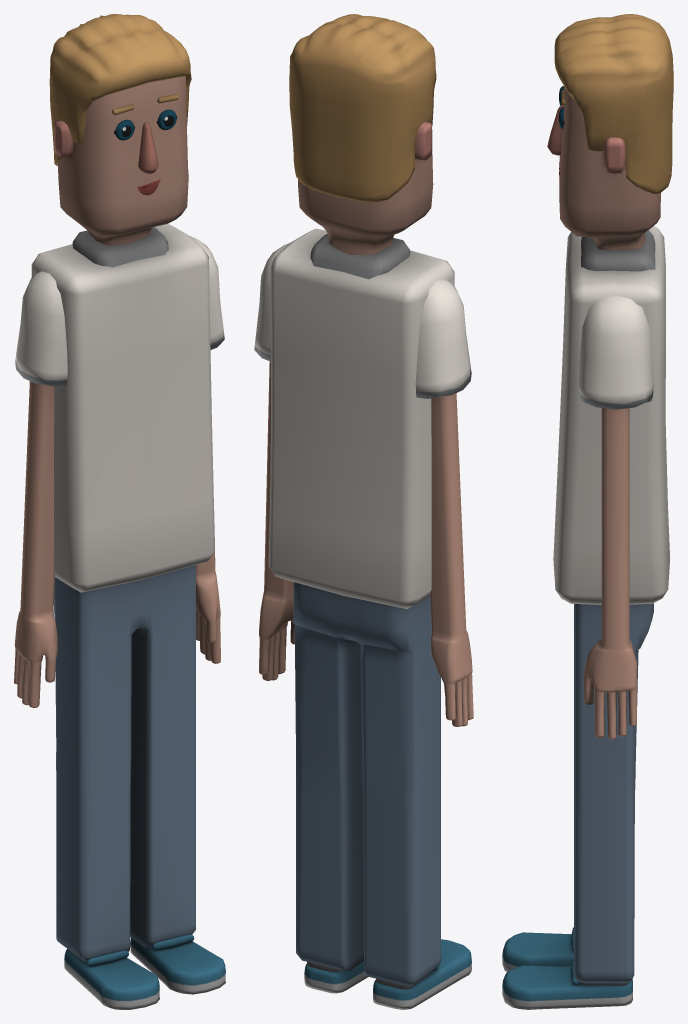
The model's file is Rubenoid_MaleGeneric_1.obj.
3 renders of one model, left to right at view 1: azimuth 30°, elevation 25°; view 2: azimuth 150°, elevation 25°; view 3: azimuth 270°, elevation 25°, orthographic. The views are drawn at different scales.
Visible parts, largest first — view 1: BodyWhole_WholeArms Body, Body Hair1 Hair; view 2: BodyWhole_WholeArms Body, Body Hair1 Hair; view 3: BodyWhole_WholeArms Body, Body Hair1 Hair.
Part boxes in pixels (x1,y1,x2,y2): BodyWhole_WholeArms Body: [14, 76, 225, 1009]; Body Hair1 Hair: [49, 14, 191, 166]; BodyWhole_WholeArms Body: [254, 122, 473, 1009]; Body Hair1 Hair: [289, 14, 436, 202]; BodyWhole_WholeArms Body: [502, 86, 669, 1009]; Body Hair1 Hair: [554, 14, 673, 193].
Size of the model in its own units: 39.95 by 182 by 29.58.
Materials: 1 (1 with a texture image).
